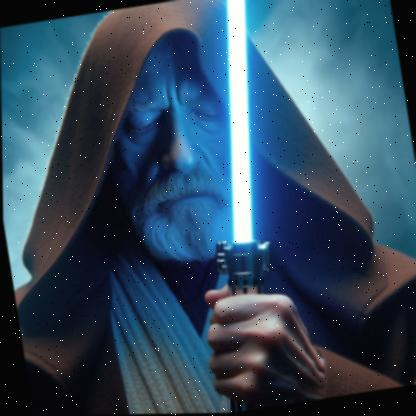lightsaber: (150, 0, 330, 414)
person: (0, 0, 416, 416)
